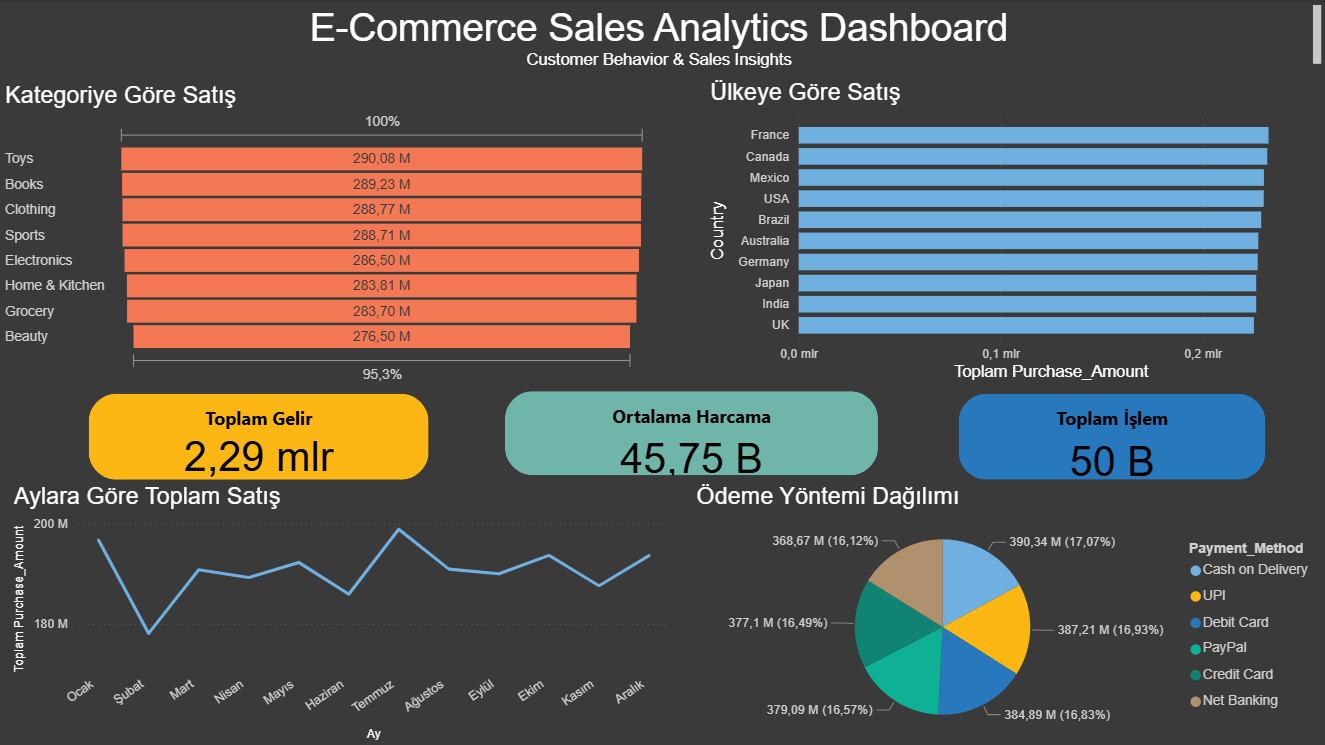

What the dashboard file says about the page in this screenshot:
{"tool":"powerbi","page":{"name":"1. sayfa","canvas":[1280,720],"ordinal":0},"visuals":[{"type":"funnel","title":"Kategoriye Göre Satış","fields":{"Category":["ecommerce_transactions.Product_Category"],"Y":["Sum(ecommerce_transactions.Purchase_Amount)"]},"box":[0,78.8,630,296.2],"z":0},{"type":"clusteredBarChart","title":"Ülkeye Göre Satış","fields":{"Category":["ecommerce_transactions.Country"],"Y":["Sum(ecommerce_transactions.Purchase_Amount)"]},"box":[680,76.2,600,296.2],"z":1000},{"type":"pieChart","title":"Ödeme Yöntemi Dağılımı","fields":{"Y":["Sum(ecommerce_transactions.Purchase_Amount)"],"Category":["ecommerce_transactions.Payment_Method"]},"box":[667.5,466.2,612.5,253.8],"z":2000},{"type":"lineChart","title":"Aylara Göre Toplam Satış","fields":{"Y":["Sum(ecommerce_transactions.Purchase_Amount)"],"Category":["ecommerce_transactions.Transaction_Date.Varyasyon.Tarih Hiyerarşisi.Ay"]},"box":[8.8,466.2,642.5,253.8],"z":3000},{"type":"cardVisual","fields":{"Data":["ecommerce_transactions.Ölçü"]},"box":[81.2,375,338.8,93.8],"z":4000},{"type":"cardVisual","fields":{"Data":["ecommerce_transactions.Ortalama Harcama"]},"box":[482.5,372.5,370,91.2],"z":5000},{"type":"cardVisual","fields":{"Data":["ecommerce_transactions.Toplam İşlem"]},"box":[920,375,306.2,93.8],"z":6000},{"type":"textbox","box":[0,0,1280,76.2],"z":7000}]}

Visuals, with their boxes in screenshot pixels (x1, y1, x2, y2), scaled from the page's 1280x720 canvas onto the 1325x745 screenshot:
"Kategoriye Göre Satış" funnel: x1=0 y1=82 x2=652 y2=388
"Ülkeye Göre Satış" clusteredBarChart: x1=704 y1=79 x2=1324 y2=385
"Ödeme Yöntemi Dağılımı" pieChart: x1=691 y1=482 x2=1324 y2=744
"Aylara Göre Toplam Satış" lineChart: x1=9 y1=482 x2=674 y2=744
cardVisual - ecommerce_transactions.Ölçü: x1=84 y1=388 x2=435 y2=485
cardVisual - ecommerce_transactions.Ortalama Harcama: x1=499 y1=385 x2=882 y2=480
cardVisual - ecommerce_transactions.Toplam İşlem: x1=952 y1=388 x2=1269 y2=485
textbox: x1=0 y1=0 x2=1324 y2=79
